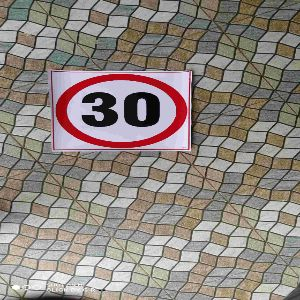speedlimit30: (52, 71, 192, 150)
